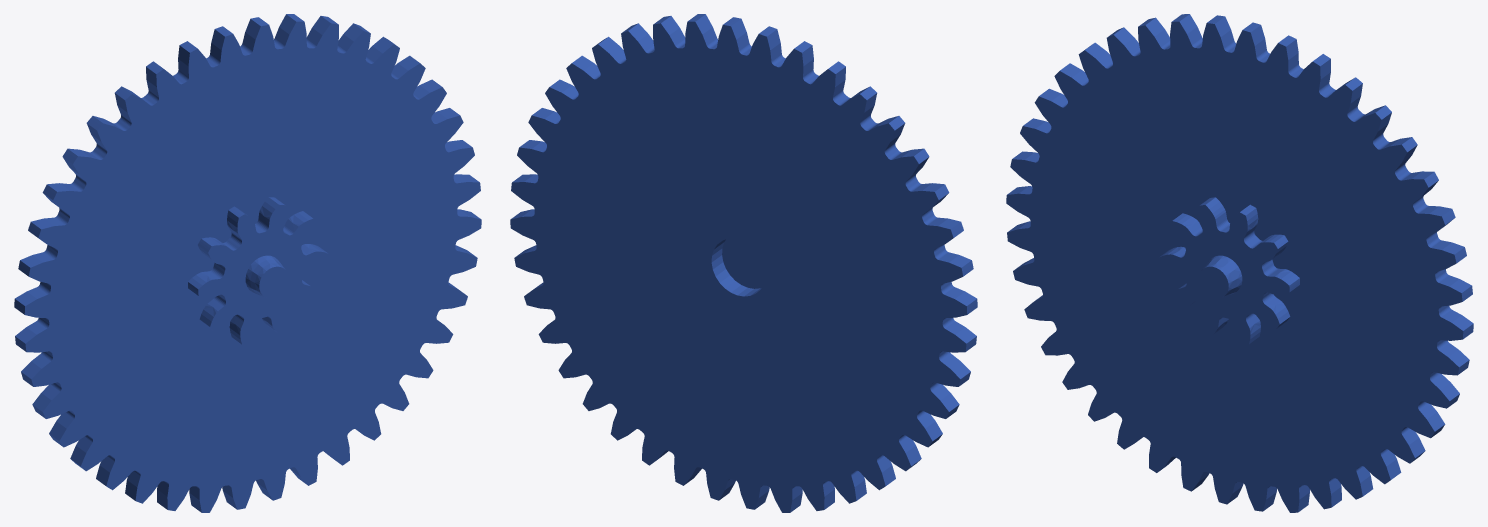
File: Spur_gear_40_teeth_3.glb
3 renders of one model, left to right at view 1: azimuth 30°, elevation 25°; view 2: azimuth 150°, elevation 25°; view 3: azimuth 330°, elevation 25°, orthographic.
Visible parts, largest first — view 1: Spur gear (40 teeth)_3; view 2: Spur gear (40 teeth)_3; view 3: Spur gear (40 teeth)_3.
Part boxes in pixels (x1,y1,x2,y2): Spur gear (40 teeth)_3: (14,14,481,512); Spur gear (40 teeth)_3: (510,14,977,512); Spur gear (40 teeth)_3: (1006,14,1473,512).
Size of the model in its own units: 25.19 by 25.19 by 3.
